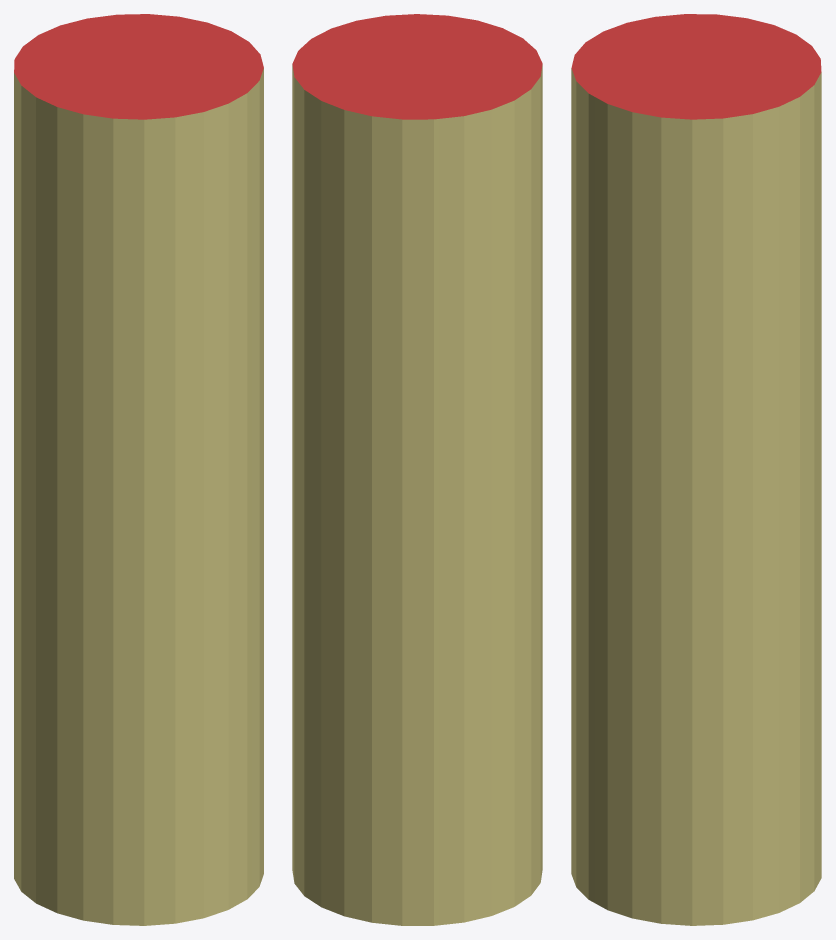
3 views of the same model, side by side, from view 1: azimuth 30°, elevation 25°; view 2: azimuth 150°, elevation 25°; view 3: azimuth 270°, elevation 25° (orthographic).
Bounding box in the file's own units: 2.66 × 2.66 × 9.46.
